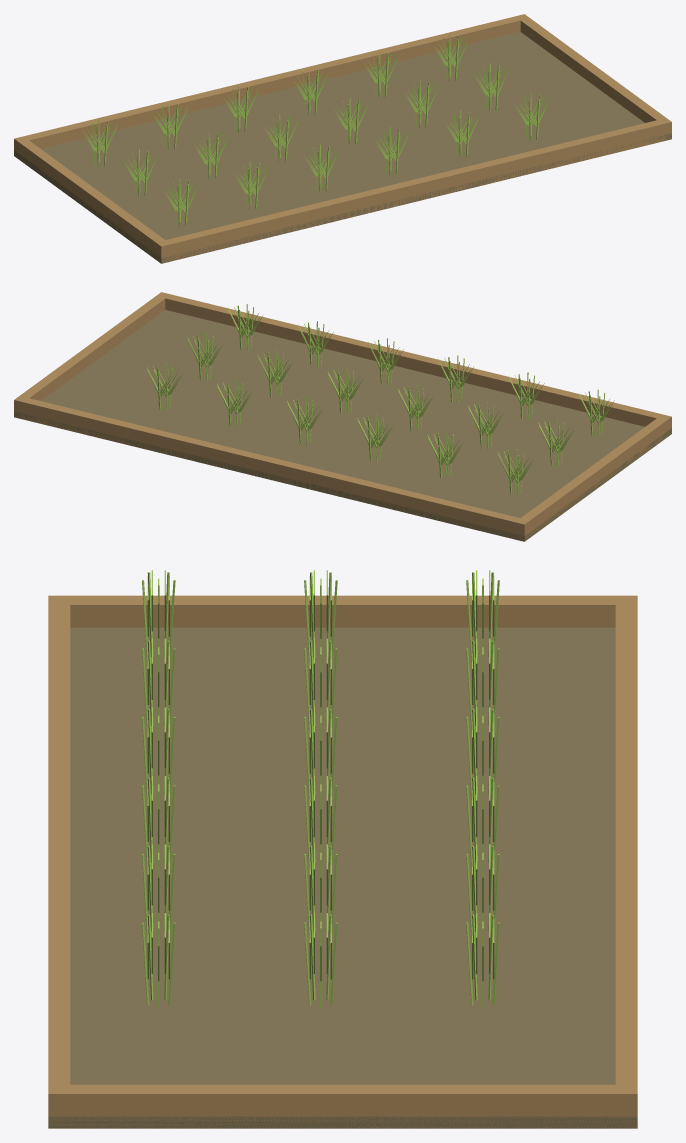
File: TR3_RicePlot_Rectangular_8x4.glb
The picture shows the model from 3 angles, top to bottom: view 1: azimuth 30°, elevation 25°; view 2: azimuth 150°, elevation 25°; view 3: azimuth 270°, elevation 25°; orthographic projection. The views are drawn at different scales.
Parts seen in each view (by area): view 1: TR3_RicePlot_Rectangular_8x4; view 2: TR3_RicePlot_Rectangular_8x4; view 3: TR3_RicePlot_Rectangular_8x4.
Boxes of the visible parts, bbox=[...] form: TR3_RicePlot_Rectangular_8x4: bbox=[14, 14, 671, 263]; TR3_RicePlot_Rectangular_8x4: bbox=[14, 292, 671, 541]; TR3_RicePlot_Rectangular_8x4: bbox=[48, 570, 637, 1128].
Bounding box in the file's own units: 8 × 0.7404 × 4.
